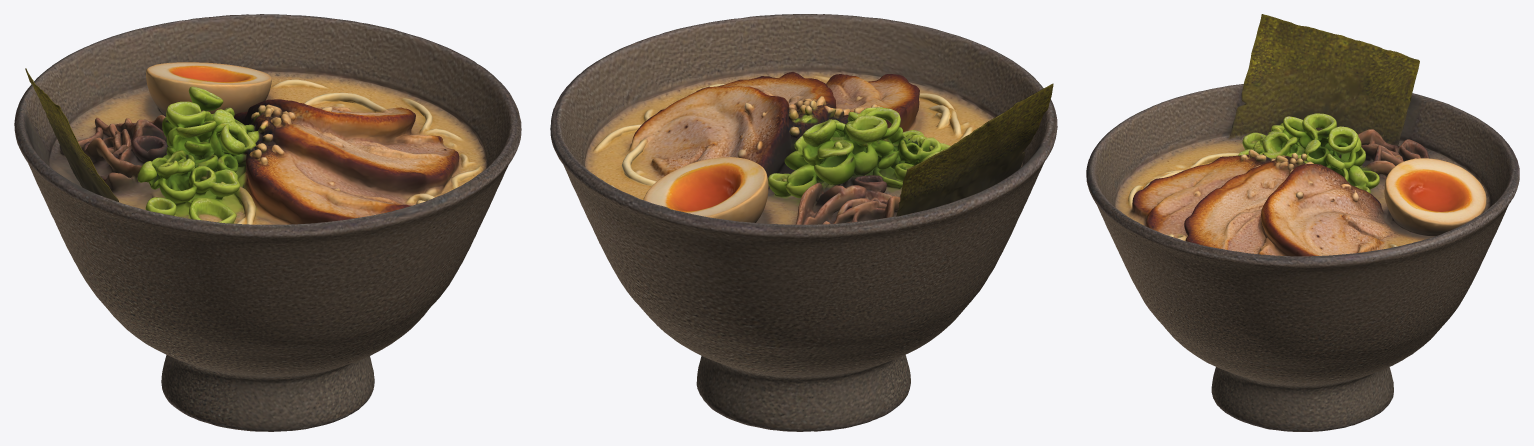
Rendered from tonkotsu-ramen-raw.glb.
3 renders of one model, left to right at view 1: azimuth 30°, elevation 25°; view 2: azimuth 150°, elevation 25°; view 3: azimuth 270°, elevation 25°, orthographic. The views are drawn at different scales.
Visible parts, largest first — view 1: tripo_node_66407cbc-5924-4108-ac3c-2536b8babac4; view 2: tripo_node_66407cbc-5924-4108-ac3c-2536b8babac4; view 3: tripo_node_66407cbc-5924-4108-ac3c-2536b8babac4.
Part boxes in pixels (x1,y1,x2,y2): tripo_node_66407cbc-5924-4108-ac3c-2536b8babac4: (14, 14, 521, 431); tripo_node_66407cbc-5924-4108-ac3c-2536b8babac4: (550, 14, 1057, 431); tripo_node_66407cbc-5924-4108-ac3c-2536b8babac4: (1086, 14, 1519, 431).
Bounding box in the file's own units: 1 × 0.736 × 0.9999.
1 material, 1 textured.
